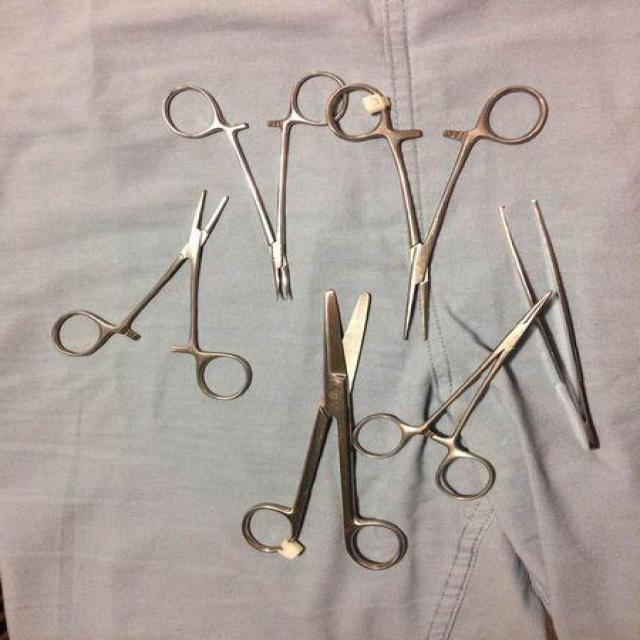Forceps: (493, 193, 608, 459)
Hemostat: (323, 82, 552, 345), (48, 188, 256, 404), (347, 288, 555, 502), (161, 70, 350, 304)
Mayo_metz: (238, 288, 410, 573)
